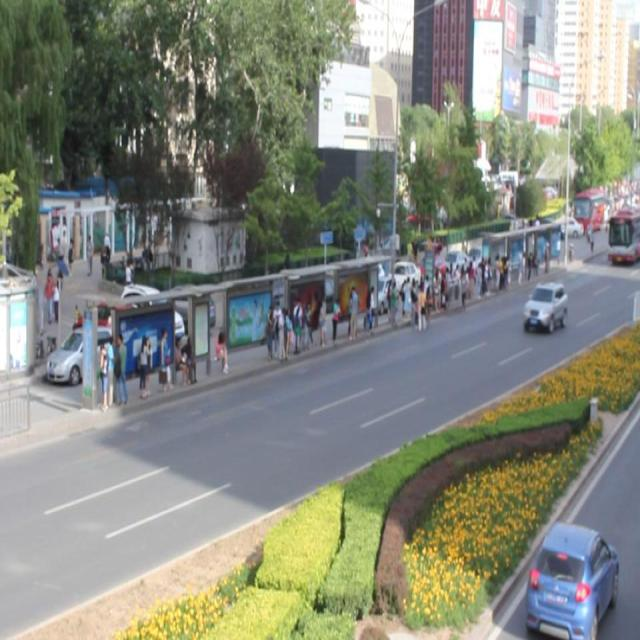car: (523, 278, 566, 332)
